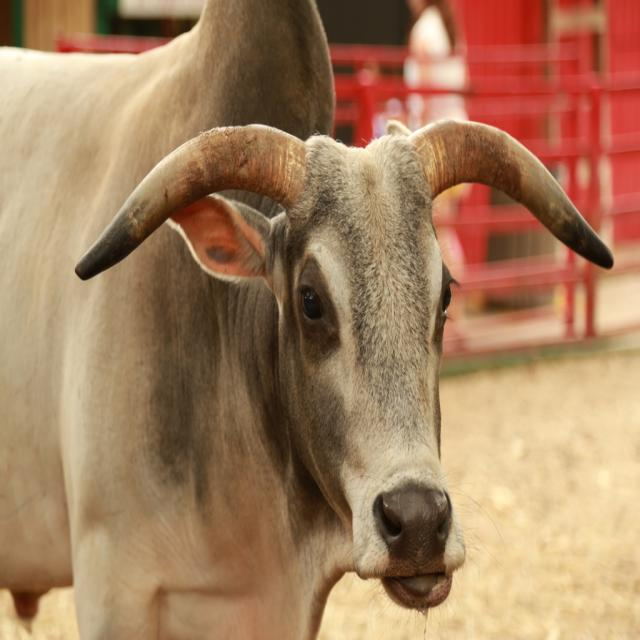Cattle: (0, 87, 612, 640)
